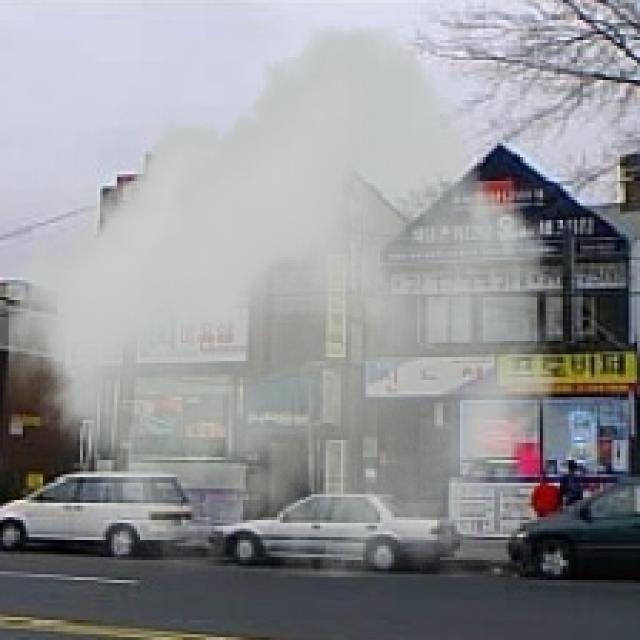Smoke: (9, 25, 558, 578)
